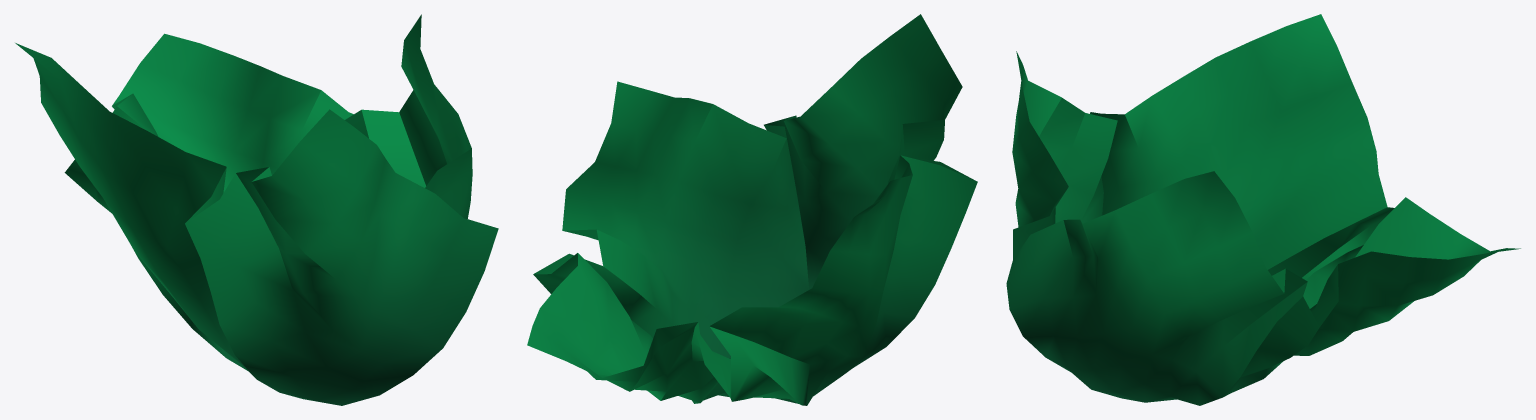
File: CandyWrapper001.glb
3 renders of one model, left to right at view 1: azimuth 30°, elevation 25°; view 2: azimuth 150°, elevation 25°; view 3: azimuth 270°, elevation 25°, orthographic. The views are drawn at different scales.
Parts seen in each view (by area): view 1: CandyWrapper001; view 2: CandyWrapper001; view 3: CandyWrapper001.
Boxes of the visible parts, x1,y1,x2,y2 form: CandyWrapper001: (15,14,498,405); CandyWrapper001: (527,14,977,405); CandyWrapper001: (1006,14,1520,405).
Size of the model in its own units: 0.2845 by 0.2578 by 0.3887.
